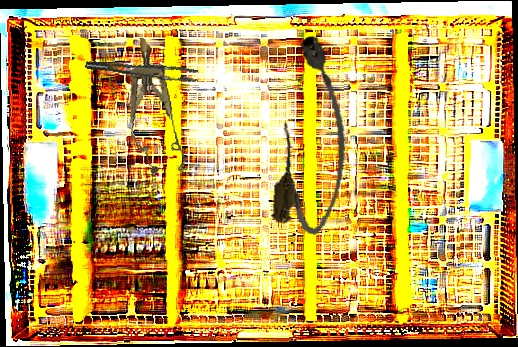Cannula: (269, 32, 358, 237)
Speculum: (116, 33, 190, 178)
Tissue Forceps: (84, 45, 201, 94)
